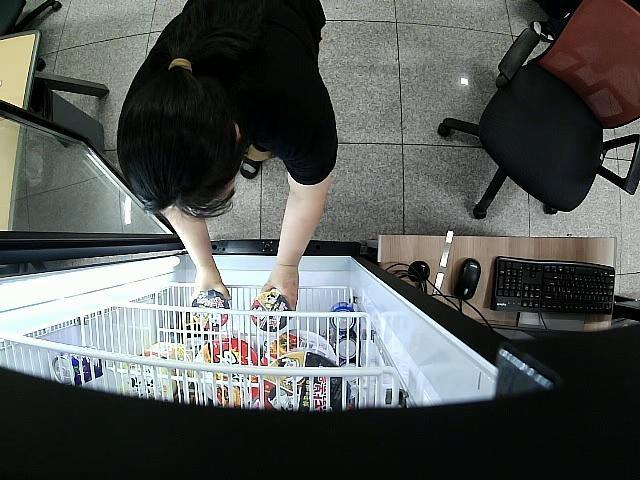08_buldak_S: (250, 292, 293, 331), (190, 288, 228, 329)
